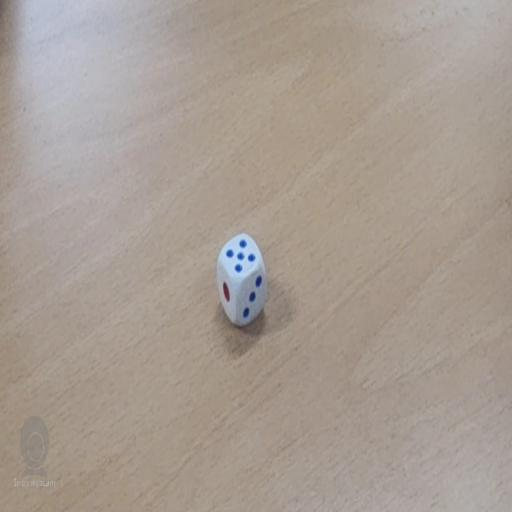dice_5: (215, 232, 266, 329)
